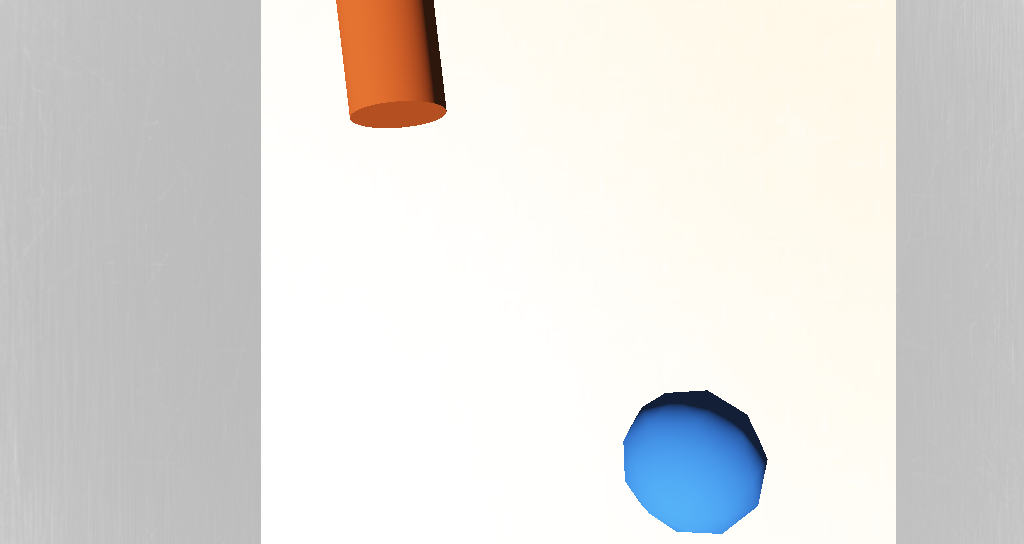cone: (391, 169, 445, 222)
cylinder: (128, 191, 263, 258)
sphere: (519, 308, 586, 351)
